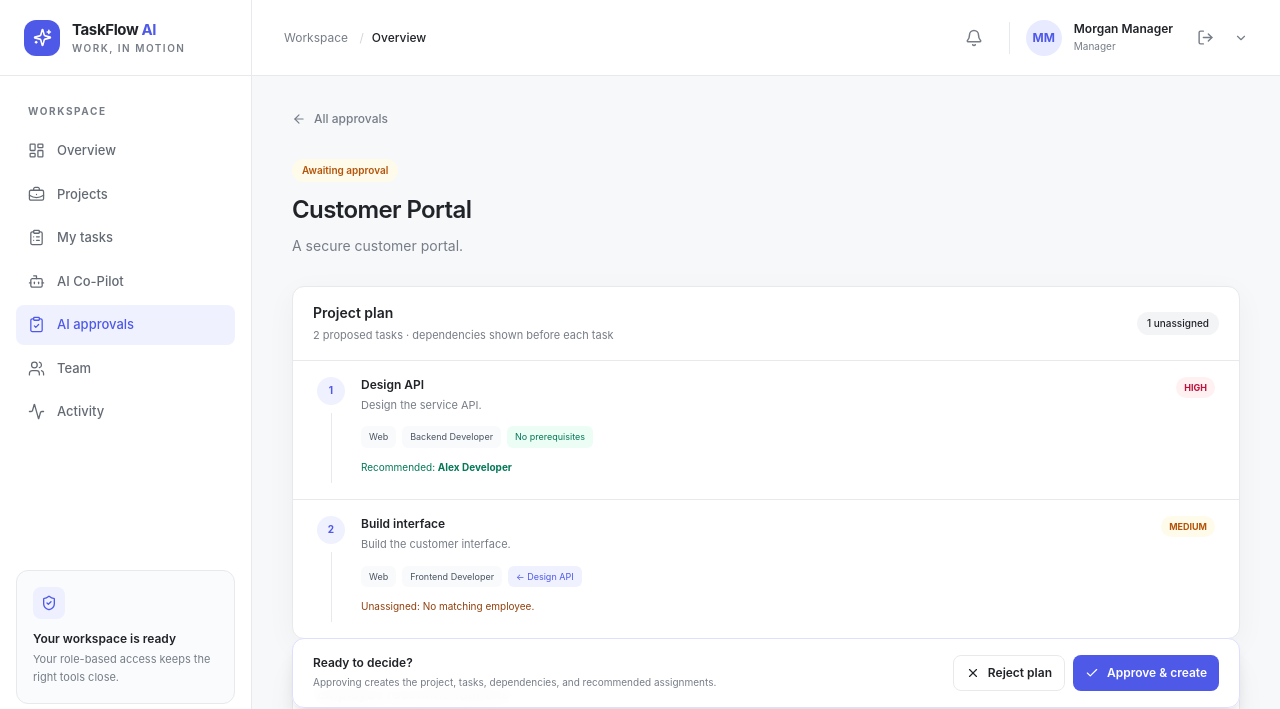
Test: manager dashboard flows › rejects a plan and displays the rejected state
This screenshot has width=1280, height=709.
Click the button "Reject plan" at (1009, 673), box [953, 655, 1065, 691]
(page scrolled)
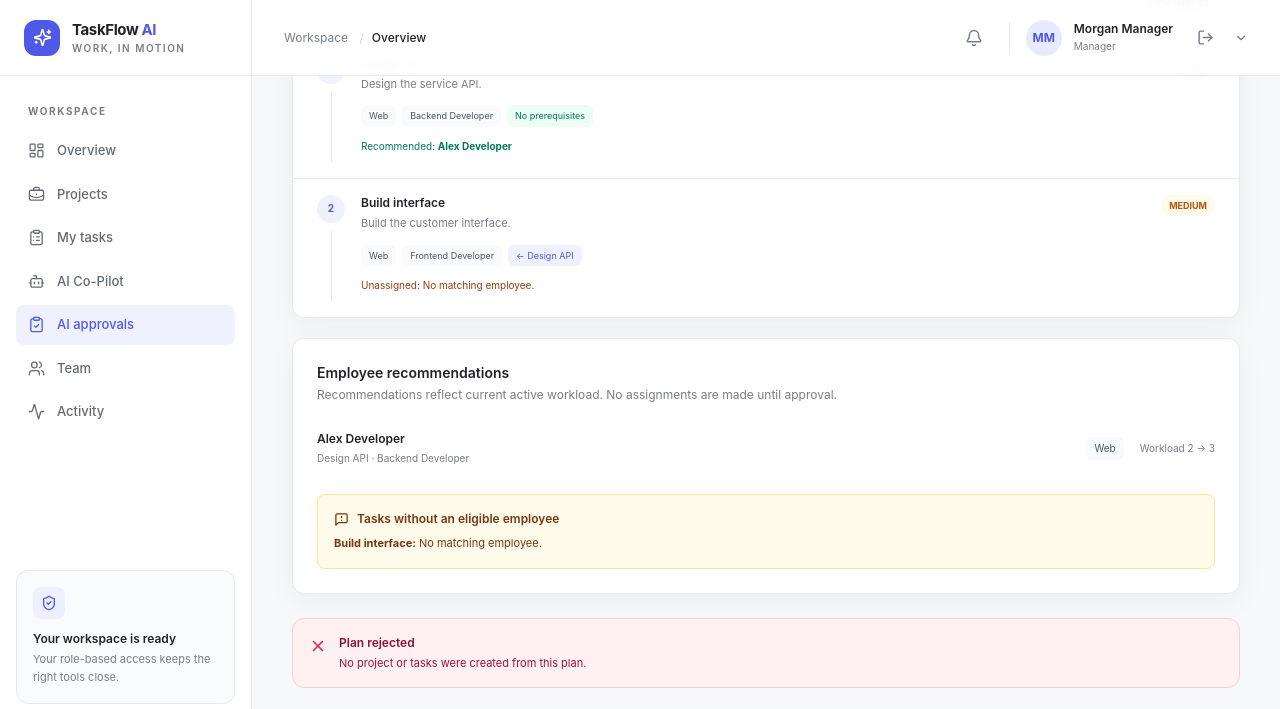
Check: the text "Plan rejected" is shown, box [339, 635, 415, 650]
